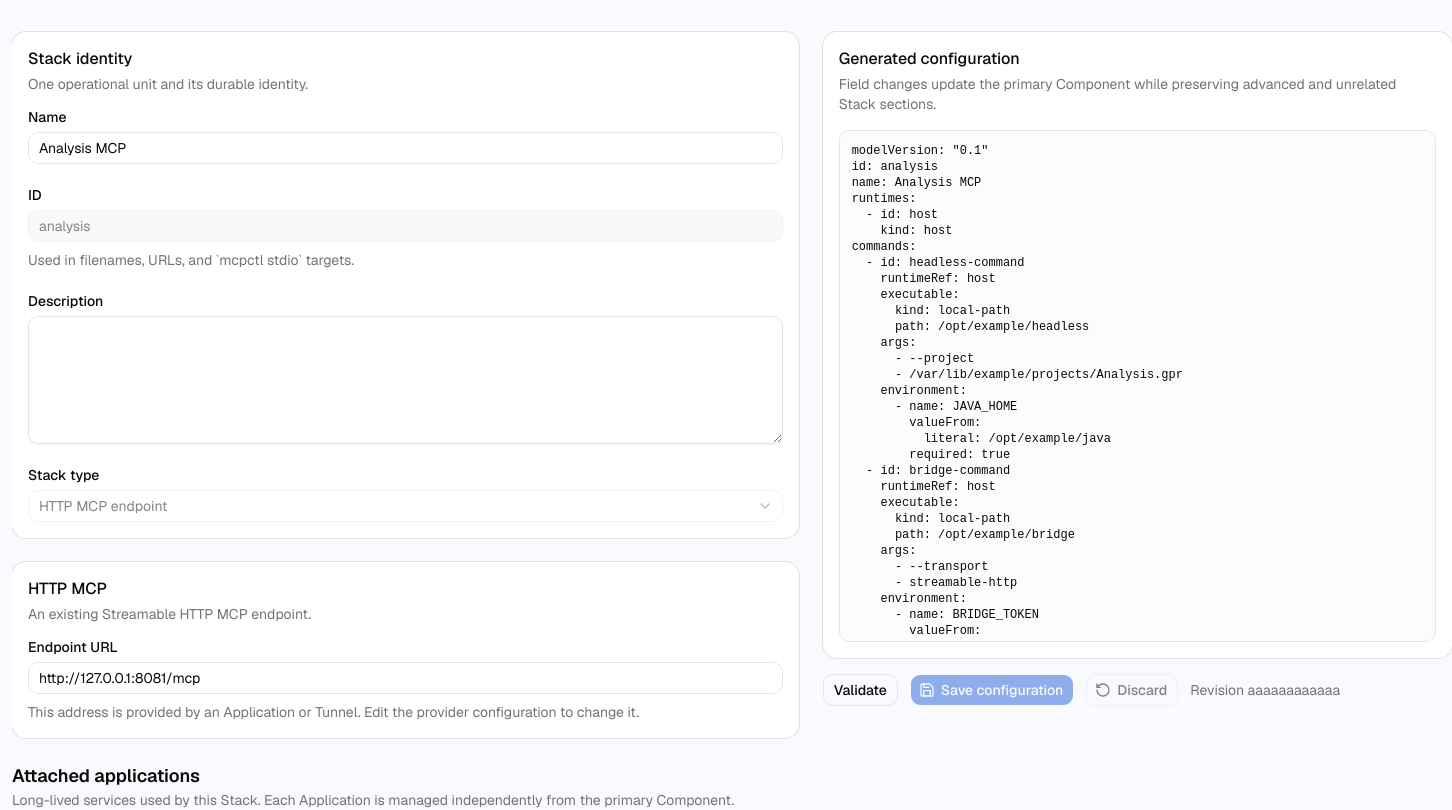
it: StackCreationForm edit mode › displays the managed HTTP listener read-only and saves unrelated edits without adding a URL
Expected: the field labelled "Endpoint URL" holds "http://127.0.0.1:8081/mcp", [28,662,783,694]
Expected: the dropdown labelled "Stack type" shows "HTTP MCP endpoint", [28,490,783,522]
Replace the text in the field labelled "Name" with "Updated Analysis MCP" at point(405, 148), box [28,132,783,164]
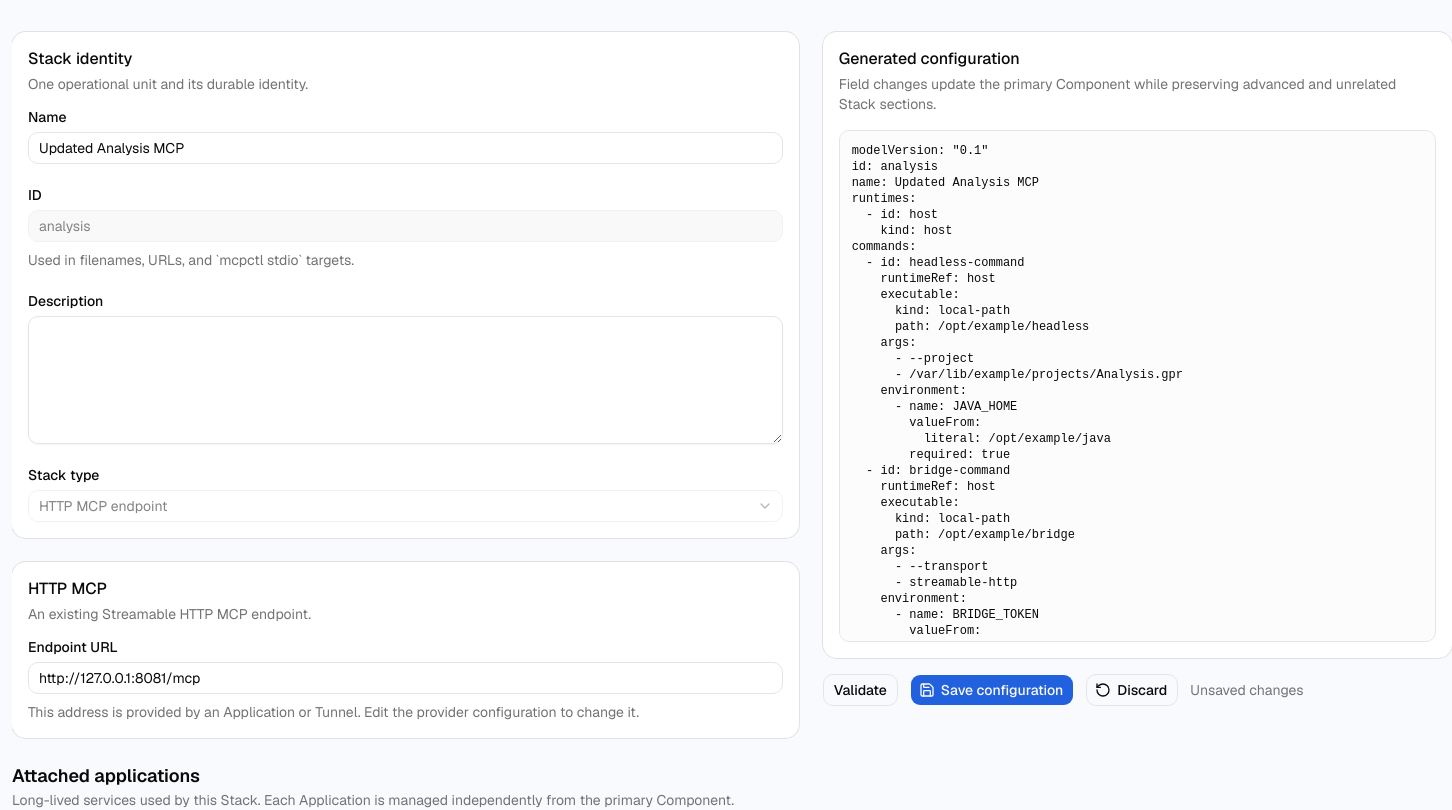
Click the button "Save configuration" at point(992, 690), box [910,674,1074,706]
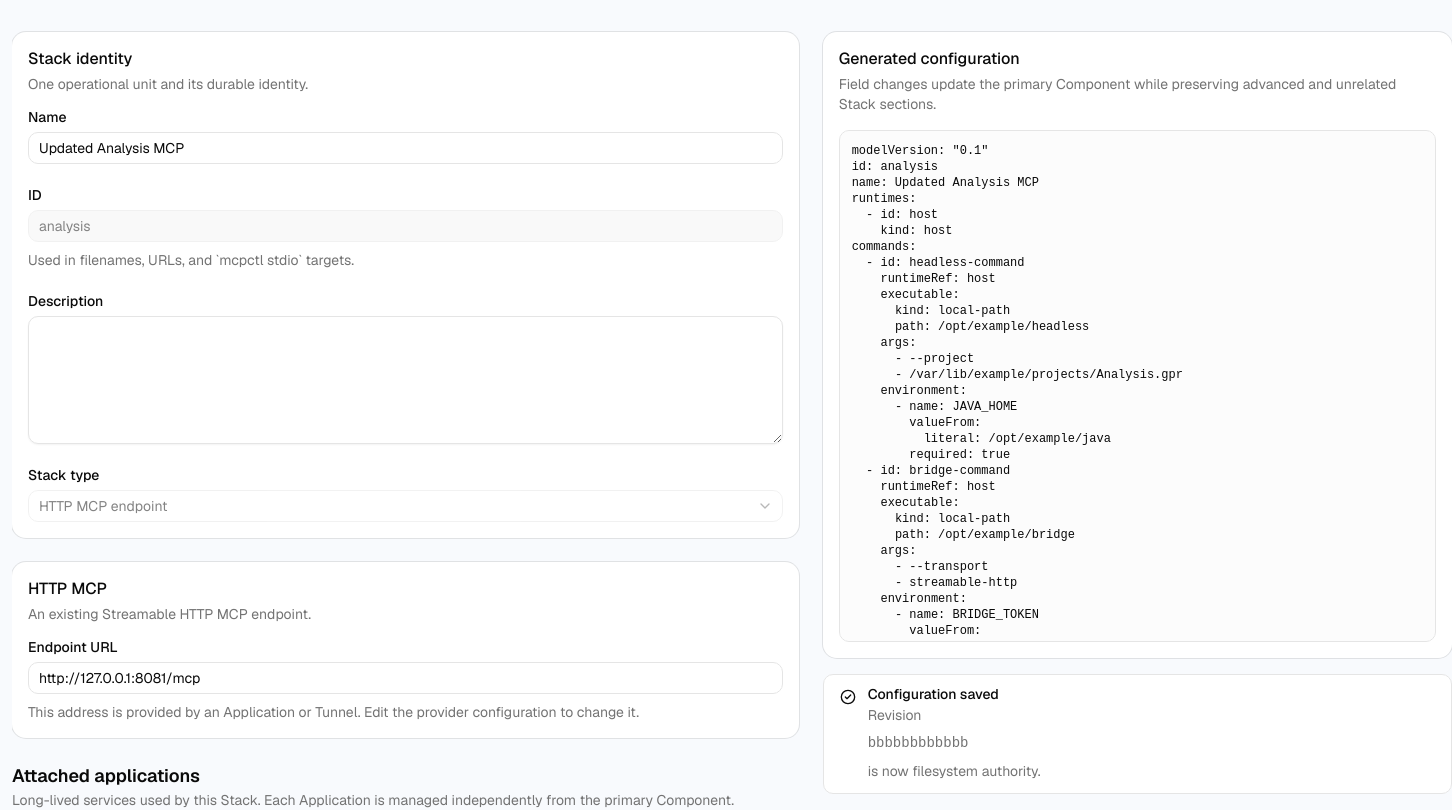
Result: the text "Configuration saved" is shown at [868,685,999,703]
